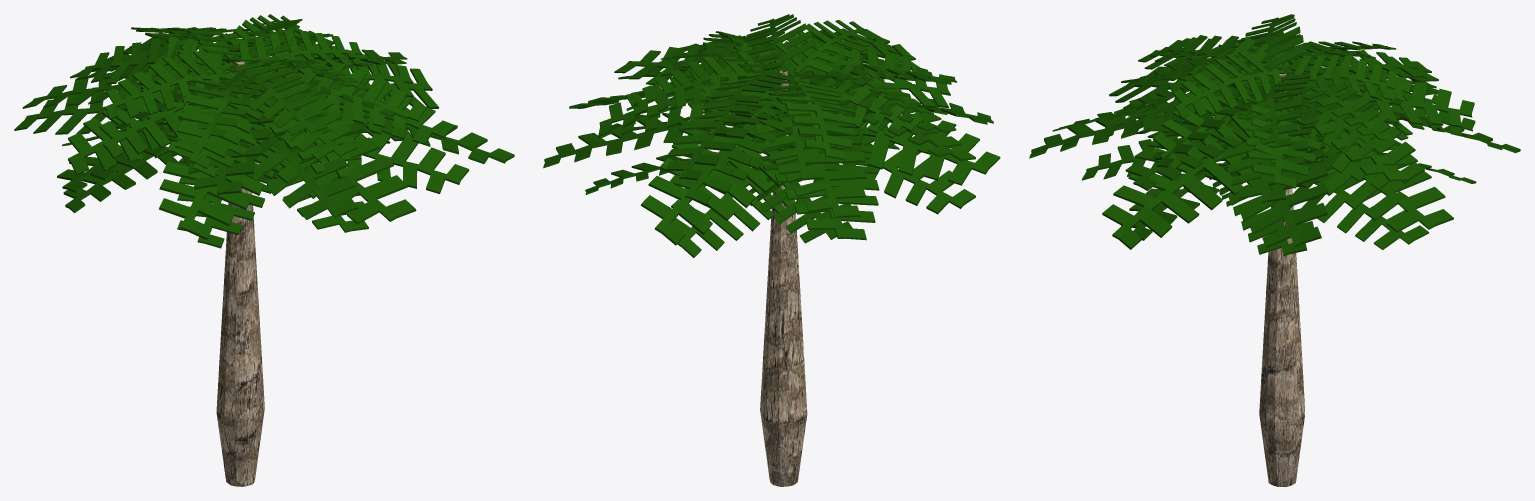
File: Palmtree.fbx
3 views of the same model, side by side, from view 1: azimuth 30°, elevation 25°; view 2: azimuth 150°, elevation 25°; view 3: azimuth 270°, elevation 25° (orthographic). The views are drawn at different scales.
Parts seen in each view (by area): view 1: Palmtree; view 2: Palmtree; view 3: Palmtree.
Boxes of the visible parts, x1,y1,x2,y2 form: Palmtree: (14,14,514,486); Palmtree: (543,14,1000,486); Palmtree: (1029,14,1520,486).
Bounding box in the file's own units: 1558 × 1669 × 1736.
